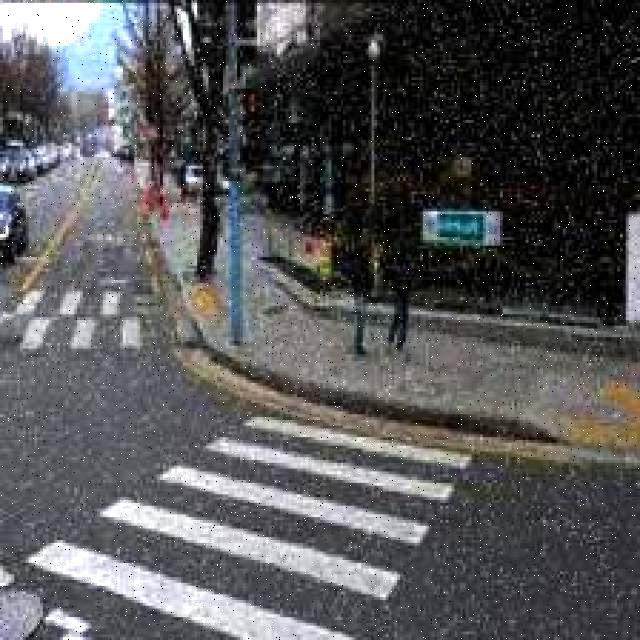crosswalk: (0, 388, 489, 638), (1, 283, 169, 355)
